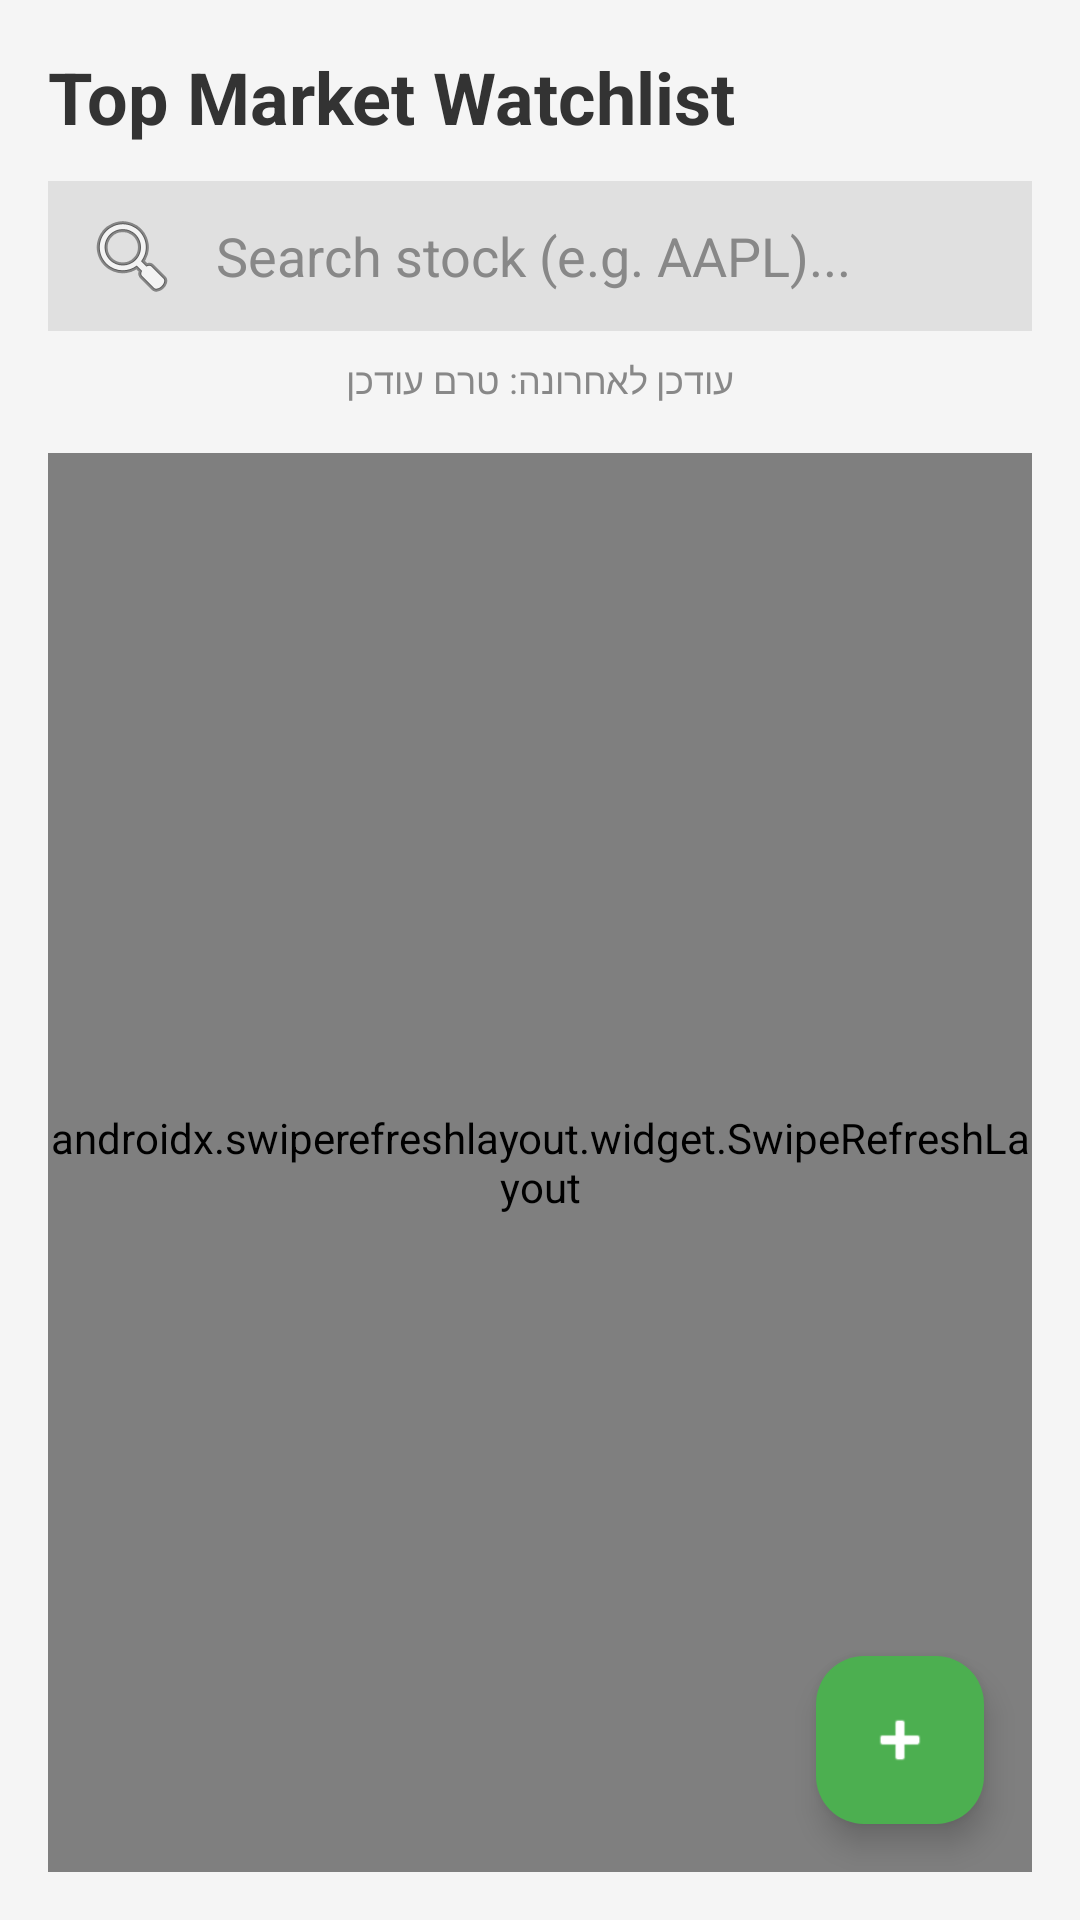

Screen size 1080px x 1920px. Icon name, then its center in pixels as (x,y):
Add new stock: (900,1740)
